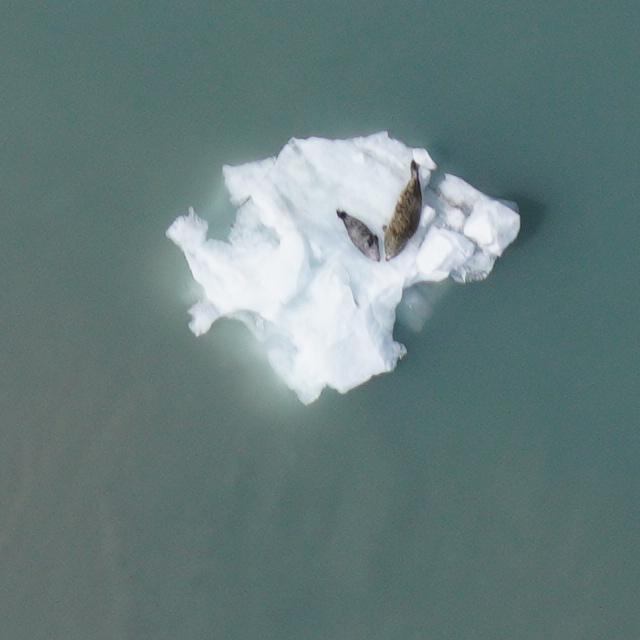seal: (370, 156, 440, 270), (326, 202, 393, 267)
